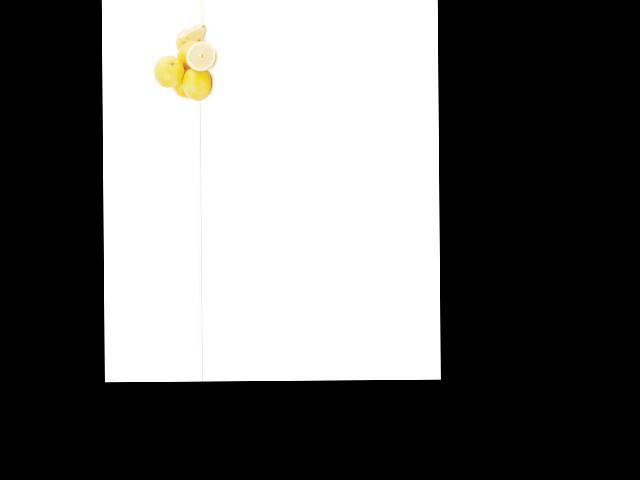lemon: (177, 65, 213, 100)
